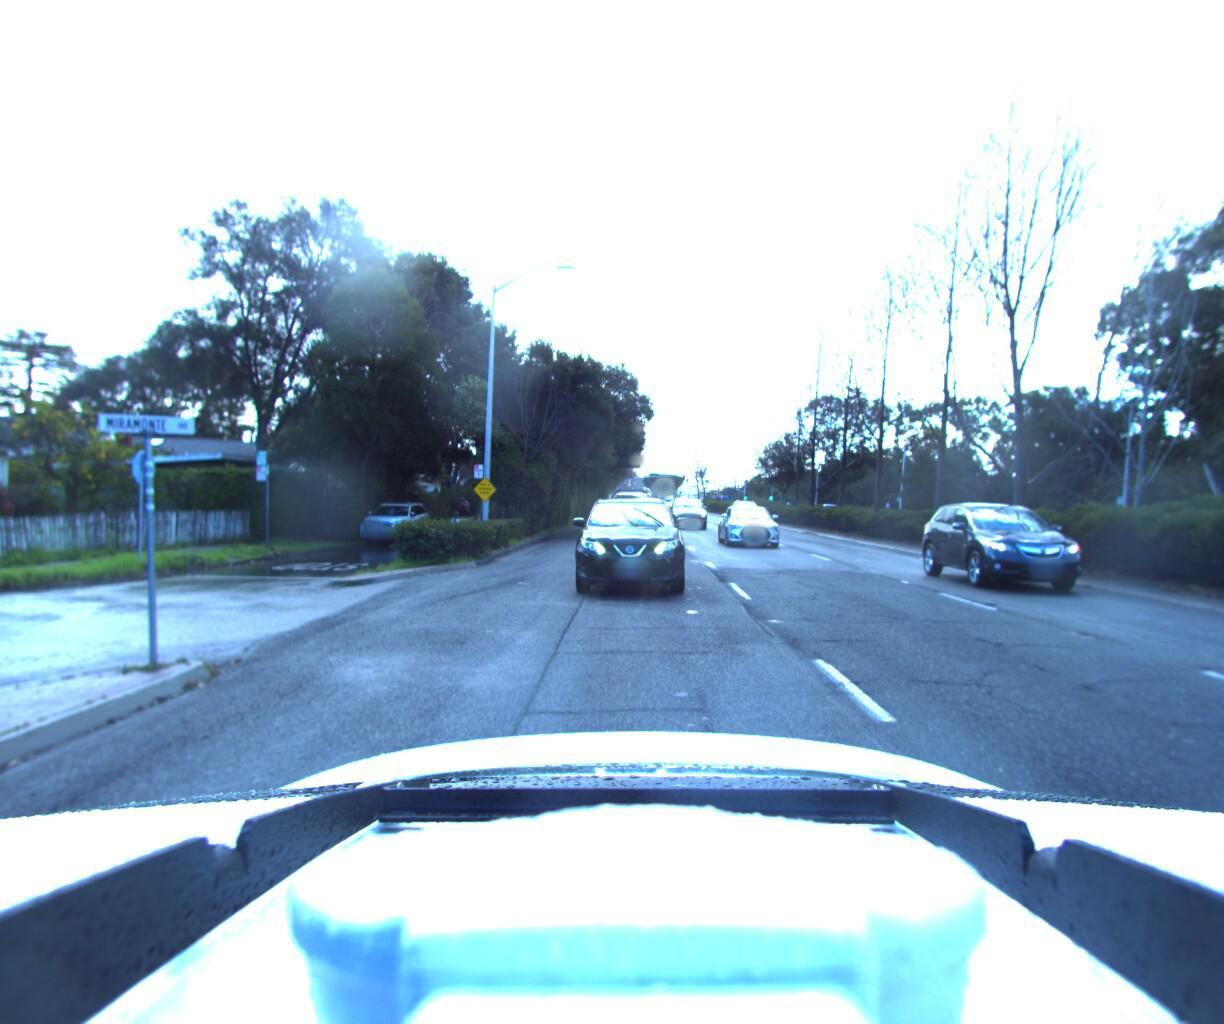car: (939, 506, 1163, 614), (570, 500, 693, 608), (342, 508, 433, 554), (715, 509, 792, 558), (603, 488, 653, 532), (663, 508, 713, 542)
